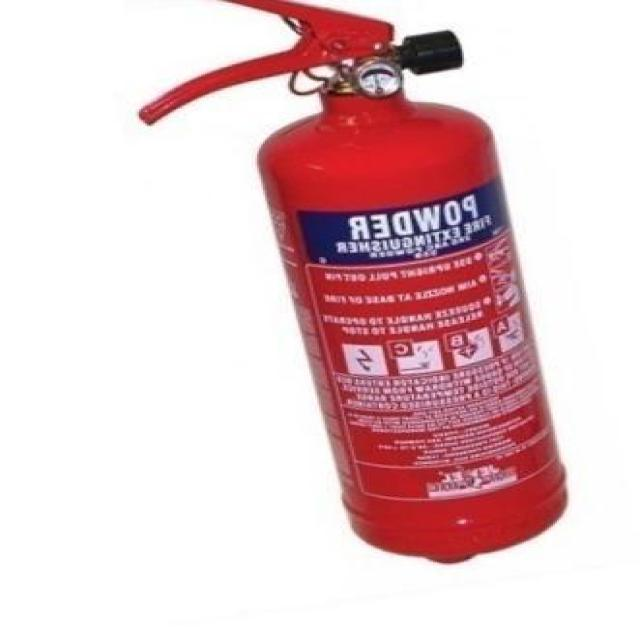fire_extinguisher: (126, 0, 576, 562)
